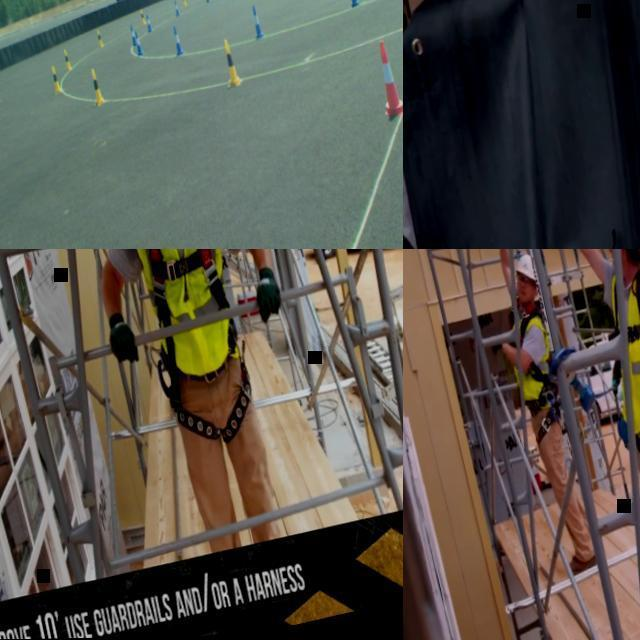helmet: (512, 252, 536, 284)
